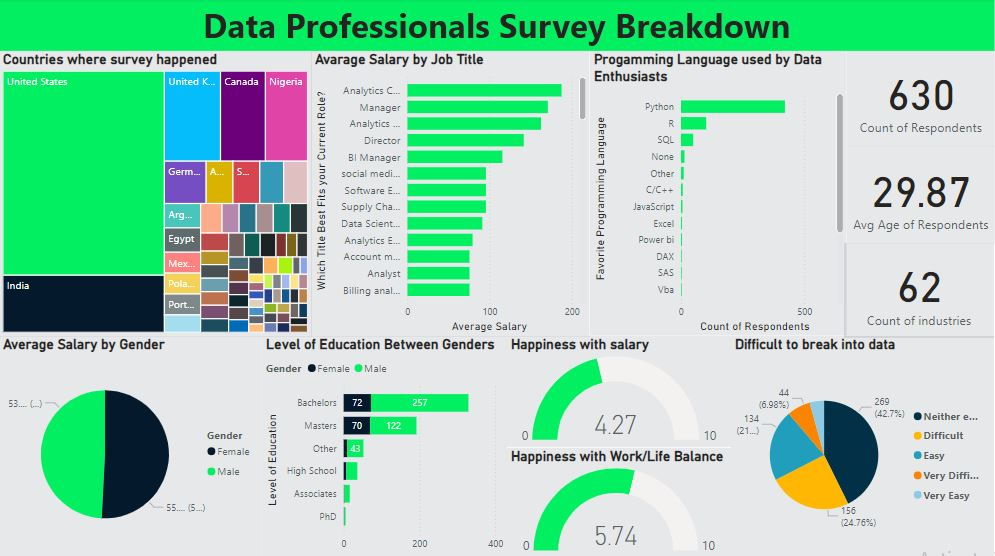

This screenshot's page, from the dashboard's own definition file:
{"tool":"powerbi","page":{"name":"Overview","canvas":[1280,720],"ordinal":0},"visuals":[{"type":"card","fields":{"Values":["CountNonNull(Data Professional Survey.Unique ID)"]},"box":[1090,65,190,125],"z":0},{"type":"card","fields":{"Values":["Avg(Data Professional Survey.Q10 - Current Age)"]},"box":[1090,190,190,125],"z":1000},{"type":"barChart","title":"Level of Education Between Genders","fields":{"Category":["Data Professional Survey.Q12 - Highest Level of Education"],"Y":["CountNonNull(Data Professional Survey.Q9 - Male/Female?)"],"Series":["Data Professional Survey.Q9 - Male/Female?"]},"box":[338.3,435,315,285],"z":2000},{"type":"treemap","title":"Countries where survey happened","fields":{"Values":["CountNonNull(Data Professional Survey.Which Country do you live in?)"],"Group":["Data Professional Survey.Which Country do you live in?","Data Professional Survey.Q9 - Male/Female?"]},"box":[0,68.3,401.7,366.7],"z":3000},{"type":"barChart","title":"Progamming Language used by Data Enthusiasts","fields":{"Category":["Data Professional Survey.Favorite Programming Language"],"Y":["CountNonNull(Data Professional Survey.Unique ID)"]},"box":[759.9,68.1,330.4,366.4],"z":4000},{"type":"card","fields":{"Values":["Count(Data Professional Survey.What Industry do you work in?)"]},"box":[1086.7,315,193.3,121.7],"z":5000},{"type":"textbox","box":[0,0,1280,68.3],"z":6000},{"type":"gauge","title":"Happiness with Work/Life Balance","fields":{"Y":["Avg(Data Professional Survey.Q6 - How Happy are you in your Current Position with the following? (Work/Life Balance))"],"MinValue":["Min(Data Professional Survey.Q6 - How Happy are you in your Current Position with the following? (Work/Life Balance))"],"MaxValue":["Max(Data Professional Survey.Q6 - How Happy are you in your Current Position with the following? (Work/Life Balance))"]},"box":[653.3,578.3,288.3,141.7],"z":7000},{"type":"pieChart","title":"Difficult to break into data","fields":{"Category":["Data Professional Survey.Q7 - How difficult was it for you to break into Data?"],"Y":["CountNonNull(Data Professional Survey.Q7 - How difficult was it for you to break into Data?)"]},"box":[941.7,435,338.3,285],"z":8000},{"type":"gauge","title":"Happiness with salary","fields":{"Y":["Avg(Data Professional Survey.Q6 - How Happy are you in your Current Position with the following? (Salary))"],"MinValue":["Min(Data Professional Survey.Q6 - How Happy are you in your Current Position with the following? (Salary))1"],"MaxValue":["Max(Data Professional Survey.Q6 - How Happy are you in your Current Position with the following? (Salary))2"]},"box":[653.3,435,288.3,143.3],"z":9000},{"type":"barChart","title":"Avarage Salary by Job Title","fields":{"Y":["CountNonNull(Data Professional Survey.Average Salary)"],"Category":["Data Professional Survey.Which Title Best Fits your Current Role?"]},"box":[401.7,68.3,358.3,366.7],"z":10000},{"type":"pieChart","title":"Average Salary by Gender","fields":{"Category":["Data Professional Survey.Q9 - Male/Female?"],"Y":["CountNonNull(Data Professional Survey.Average Salary)"]},"box":[0,435,338.3,283.3],"z":10001}]}

Visuals, with their boxes in screenshot pixels (x1, y1, x2, y2), scaled from the page's 1280x720 canvas onto the 995x556 screenshot:
card - CountNonNull(Data Professional Survey.Unique ID): [x1=847, y1=50, x2=994, y2=147]
card - Avg(Data Professional Survey.Q10 - Current Age): [x1=847, y1=147, x2=994, y2=243]
"Level of Education Between Genders" barChart: [x1=263, y1=336, x2=508, y2=555]
"Countries where survey happened" treemap: [x1=0, y1=53, x2=312, y2=336]
"Progamming Language used by Data Enthusiasts" barChart: [x1=591, y1=53, x2=848, y2=336]
card - Count(Data Professional Survey.What Industry do you work in?): [x1=845, y1=243, x2=994, y2=337]
textbox: [x1=0, y1=0, x2=994, y2=53]
"Happiness with Work/Life Balance" gauge: [x1=508, y1=447, x2=732, y2=555]
"Difficult to break into data" pieChart: [x1=732, y1=336, x2=994, y2=555]
"Happiness with salary" gauge: [x1=508, y1=336, x2=732, y2=447]
"Avarage Salary by Job Title" barChart: [x1=312, y1=53, x2=591, y2=336]
"Average Salary by Gender" pieChart: [x1=0, y1=336, x2=263, y2=555]
